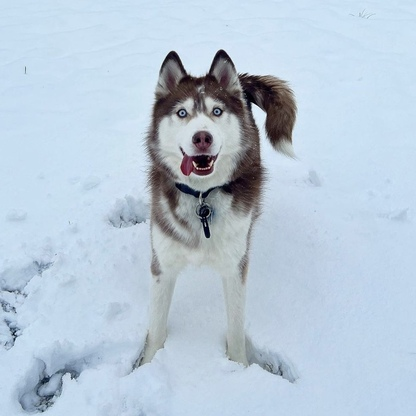husky: (135, 43, 303, 369)
